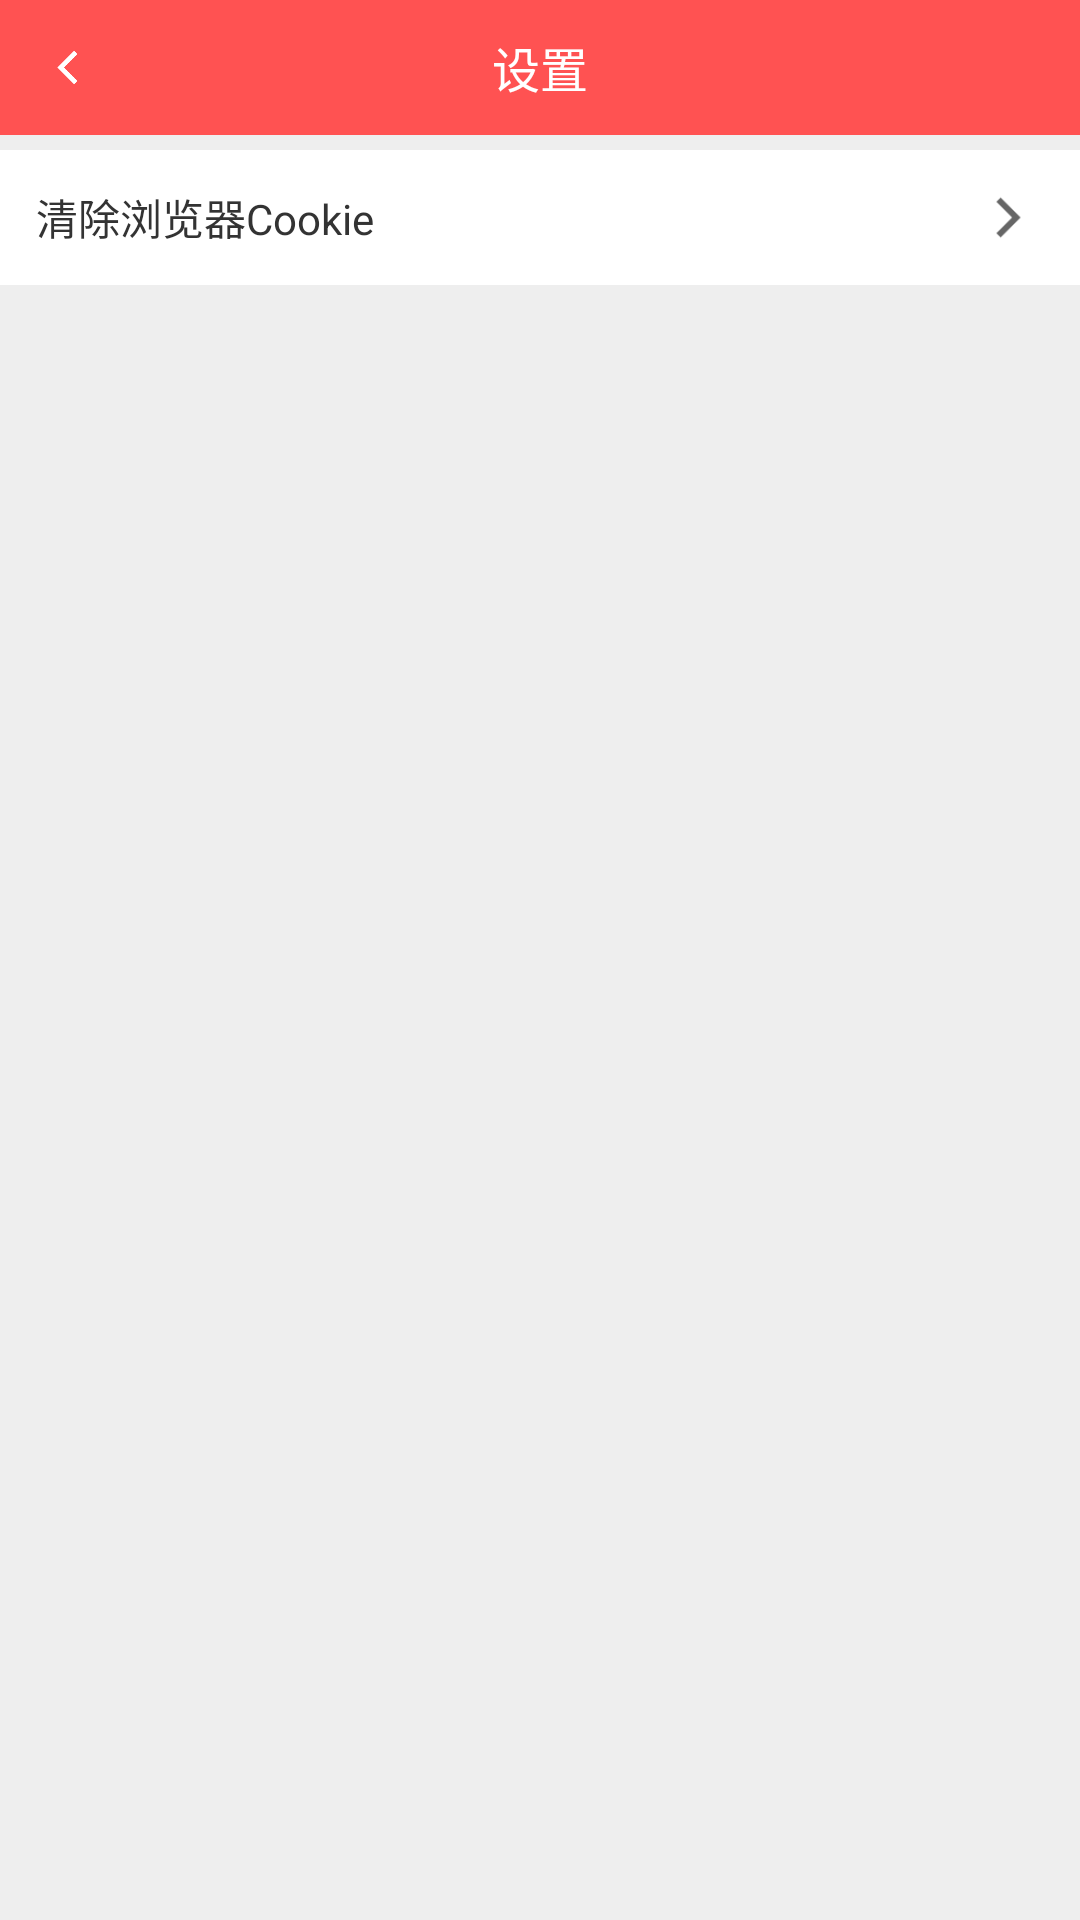

Locate icon controls on the screen. Image size 1080w x 1920h, boxes as (x1, y1, x2, y2).
arrow more: (996, 197, 1021, 238)
back: (57, 51, 77, 84)
